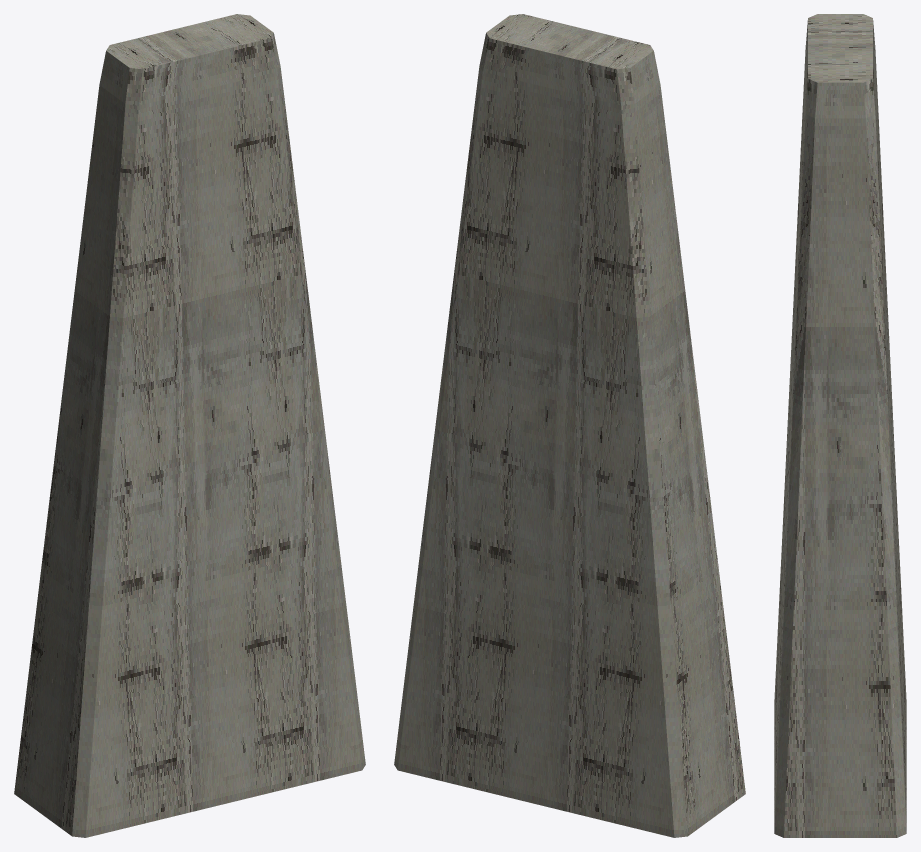
The model's file is bridge_support.glb.
3 renders of one model, left to right at view 1: azimuth 30°, elevation 25°; view 2: azimuth 150°, elevation 25°; view 3: azimuth 270°, elevation 25°, orthographic. The views are drawn at different scales.
Visible parts, largest first — view 1: bridge_support; view 2: bridge_support; view 3: bridge_support.
Part boxes in pixels (box(x1,y1,x2,y2)): bridge_support: box(14, 14, 365, 837); bridge_support: box(394, 14, 745, 837); bridge_support: box(774, 14, 906, 837).
Size of the model in its own units: 5 by 12 by 2.
1 material, 1 textured.
